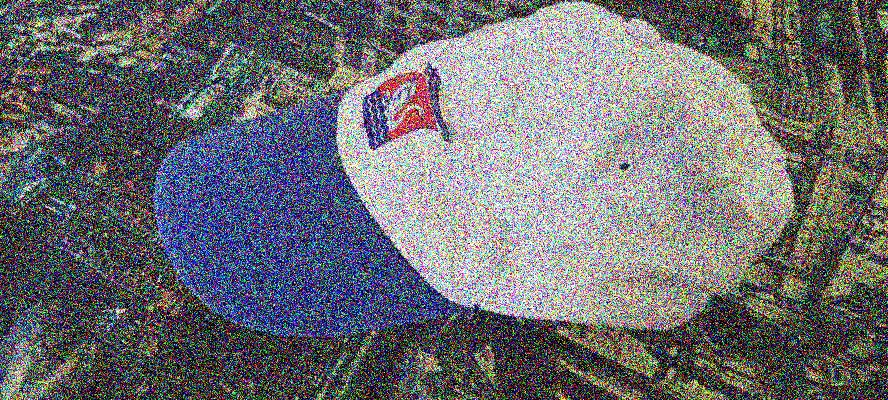Hat: (122, 0, 785, 359)
